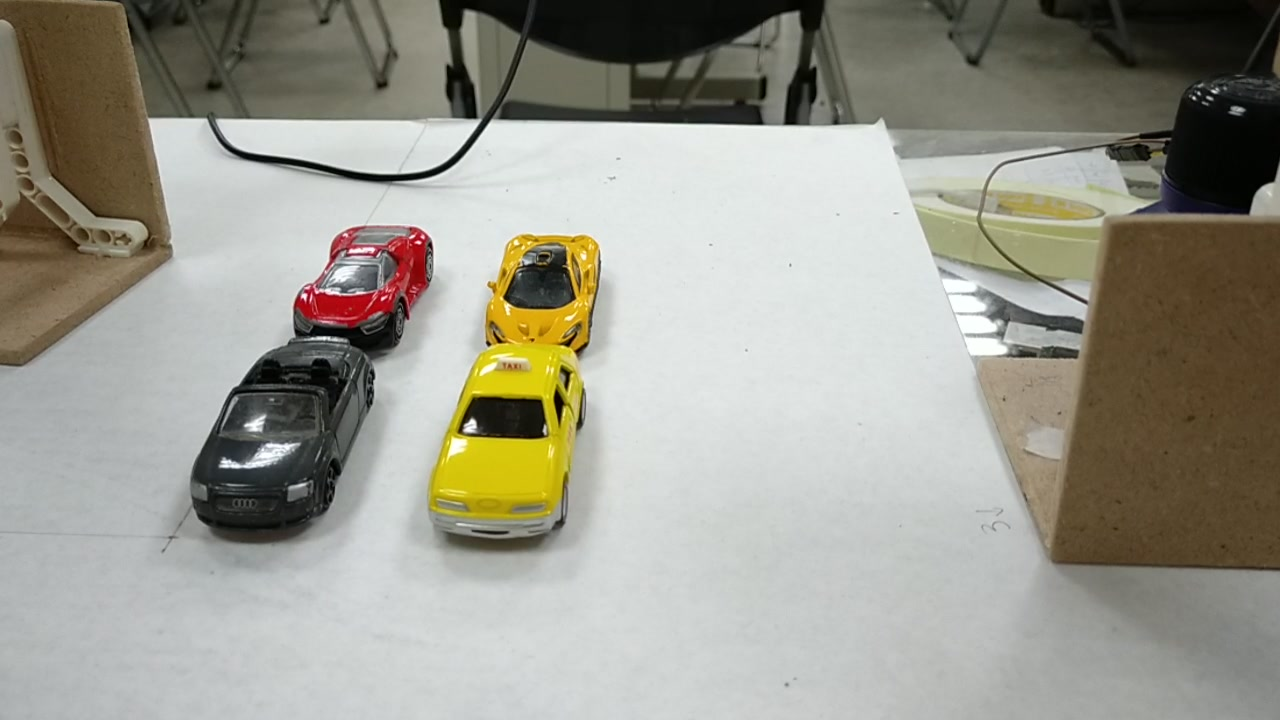car: (185, 342, 366, 520), (428, 350, 577, 538), (289, 223, 435, 338), (490, 224, 605, 341)
